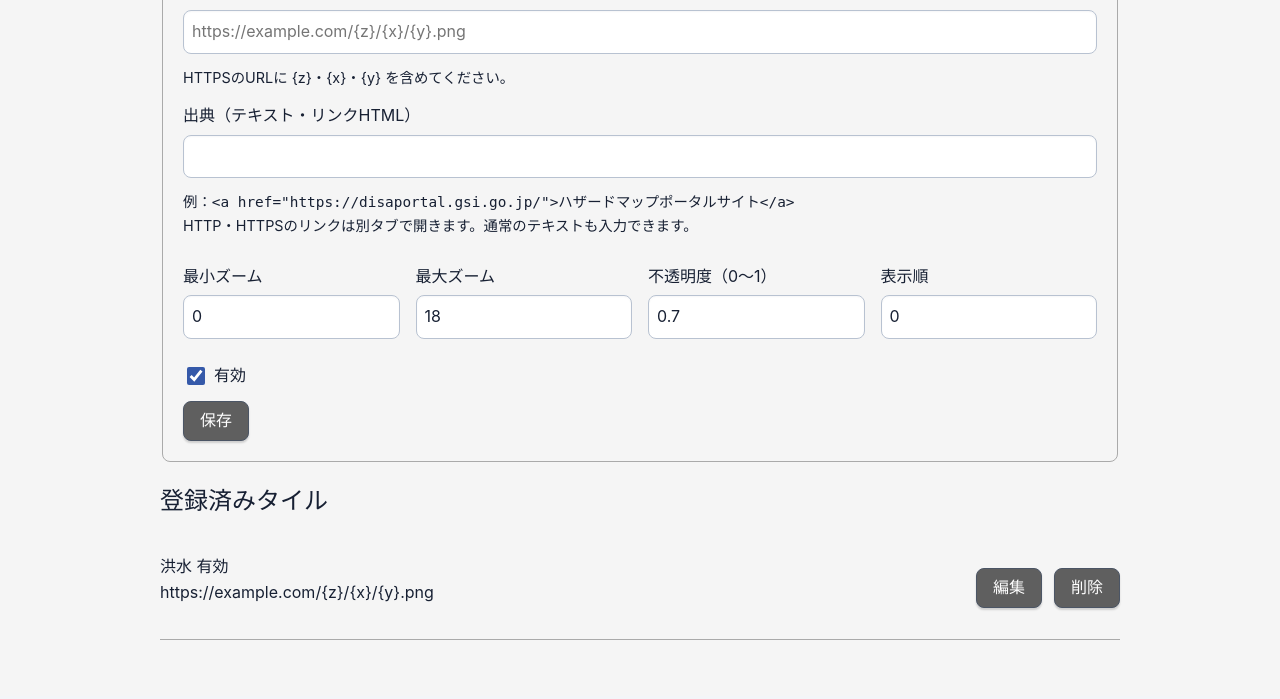
タイル追加設定 › 既存タイルの無効化を保存する
The image size is (1280, 699).
(page scrolled)
Click the button "編集".
click(1009, 588)  # box [976,568,1042,608]
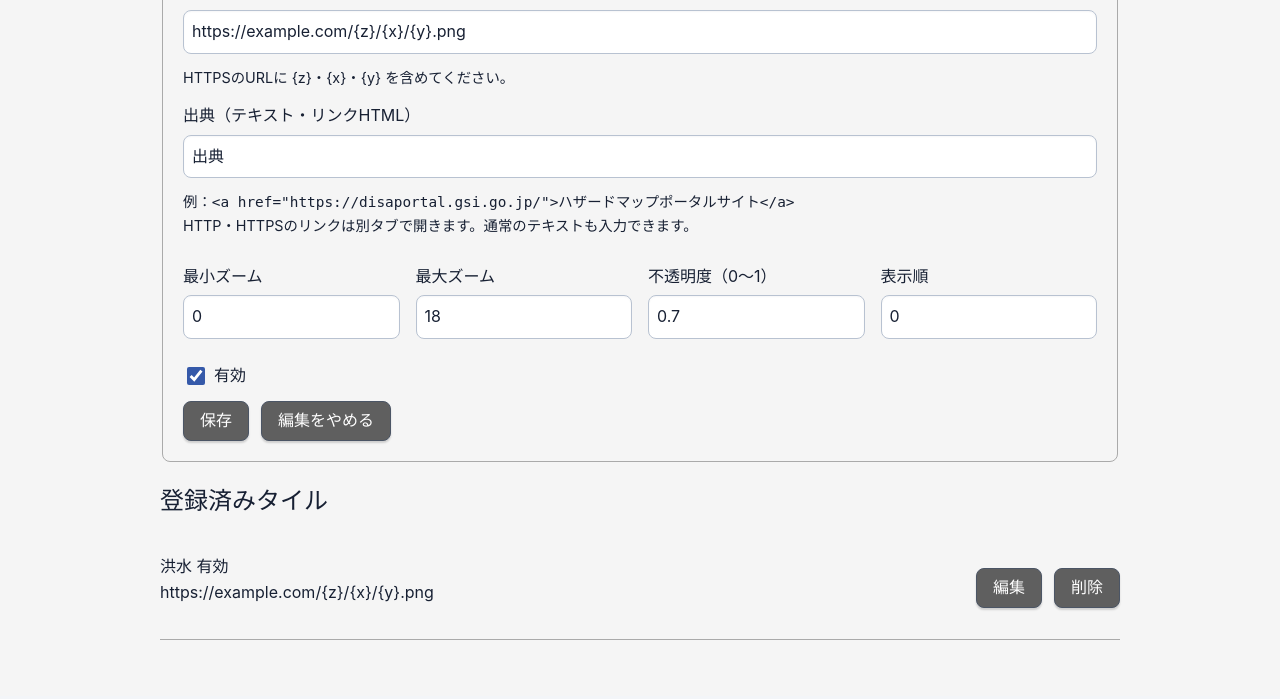
Click the checkbox labelled "有効".
click(196, 376)  # box [187,367,205,385]
(page scrolled)
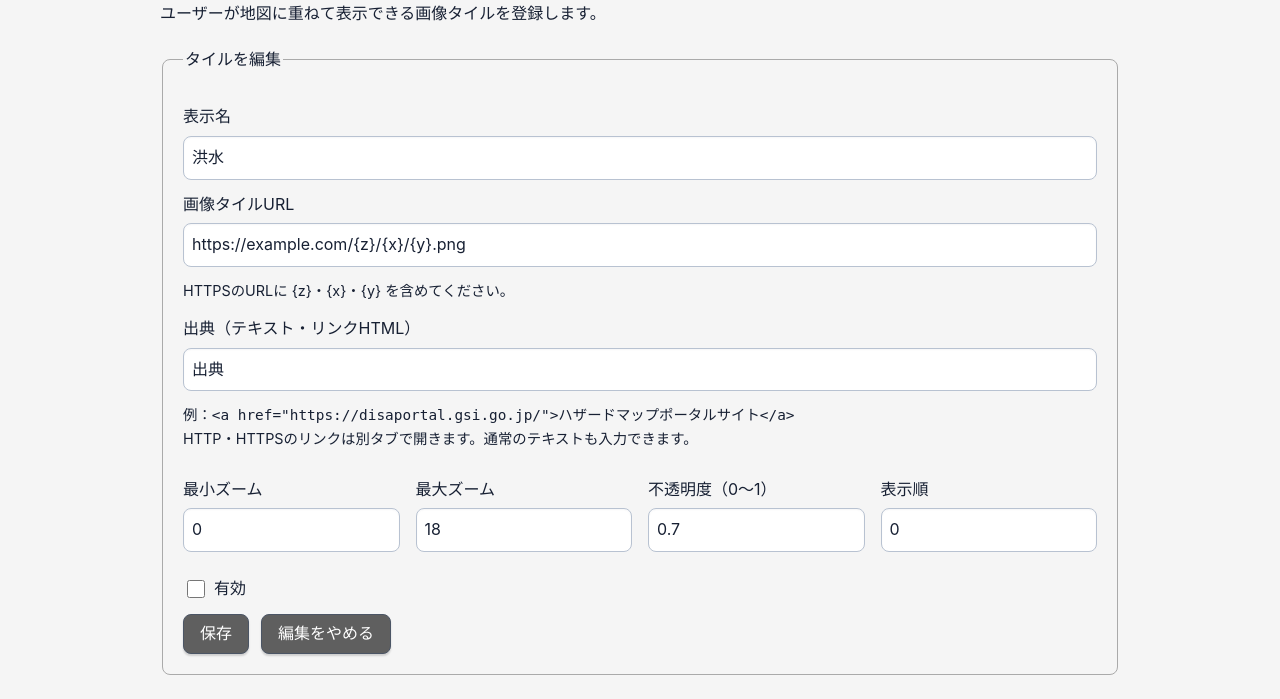
Submit the form
(page scrolled)
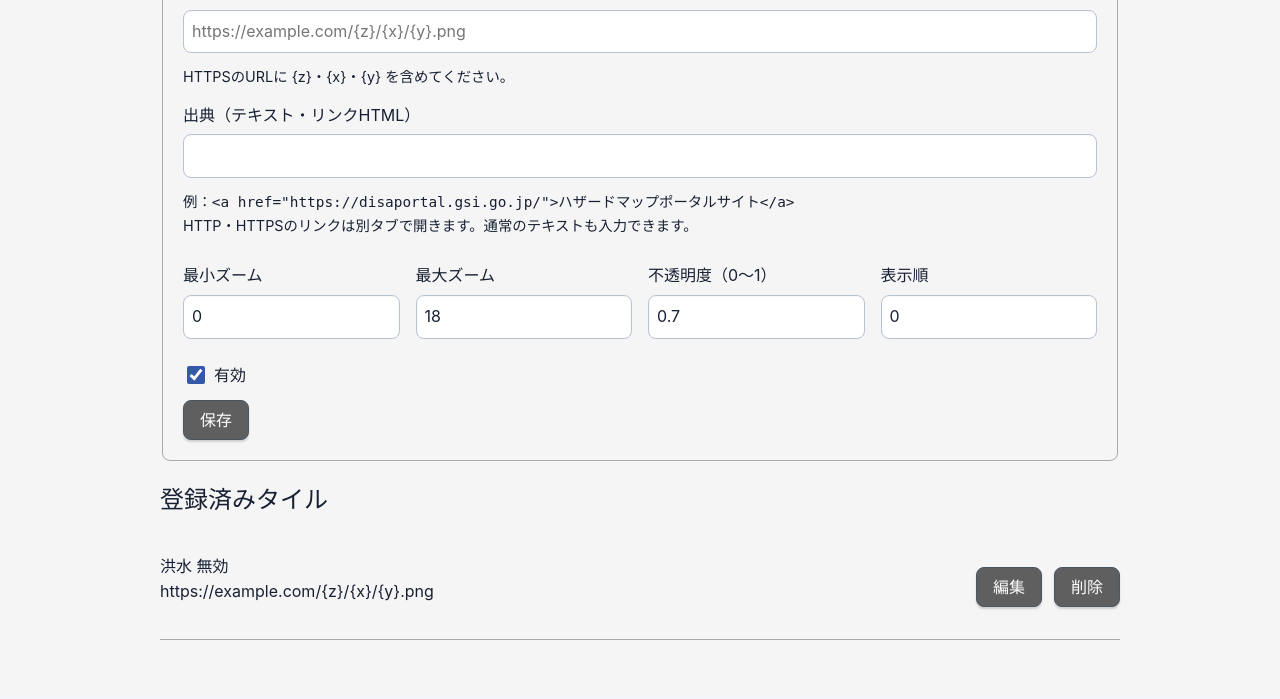
Result: the list item "洪水 無効 https://example.com/{z}/{x}/{y}.png 編集 削除" is shown at [160,536,1120,640]
